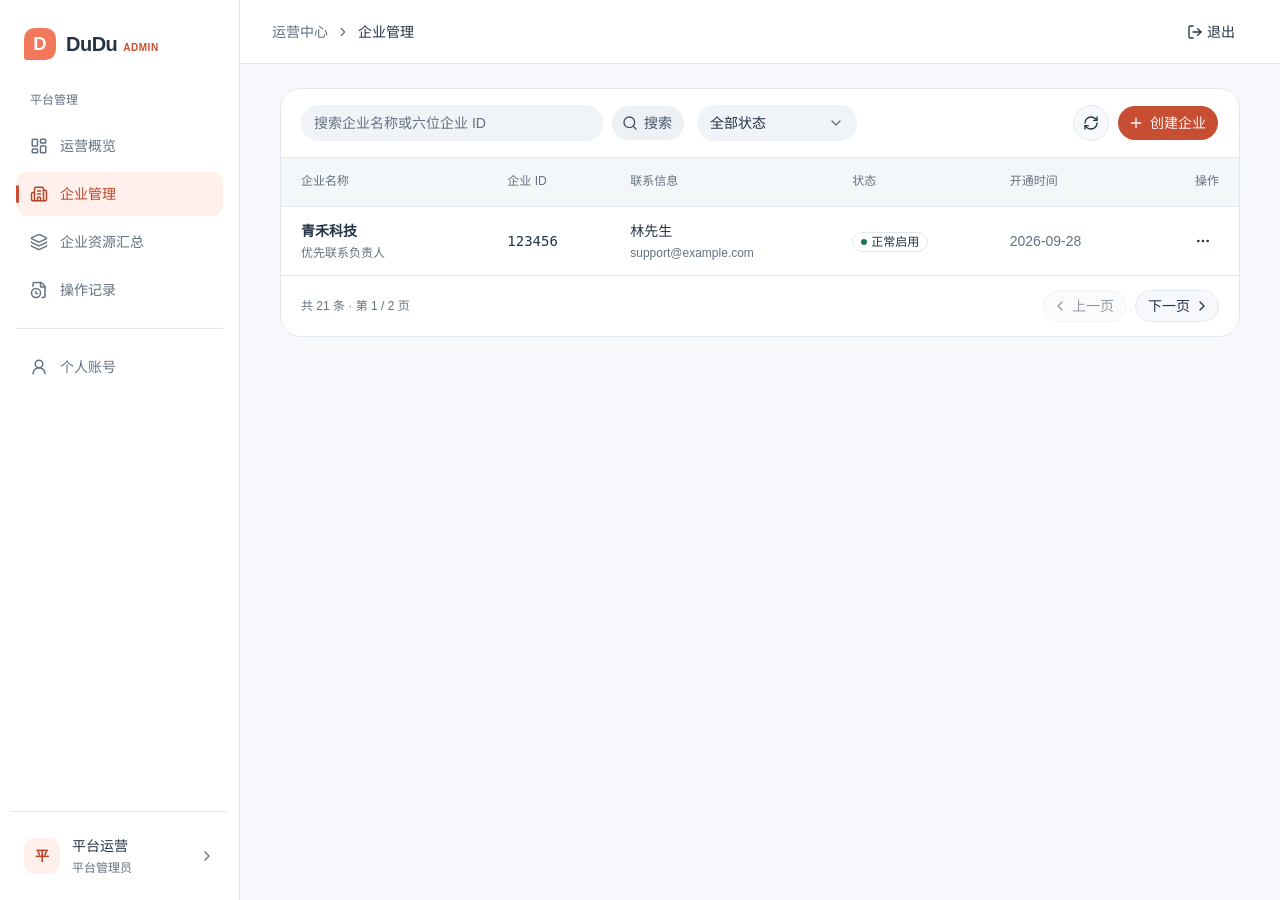
Test: 搜索和分页传递冻结的查询字段，迟到搜索不覆盖新结果
Click the button "下一页": click(1177, 306) [1135,290,1219,322]
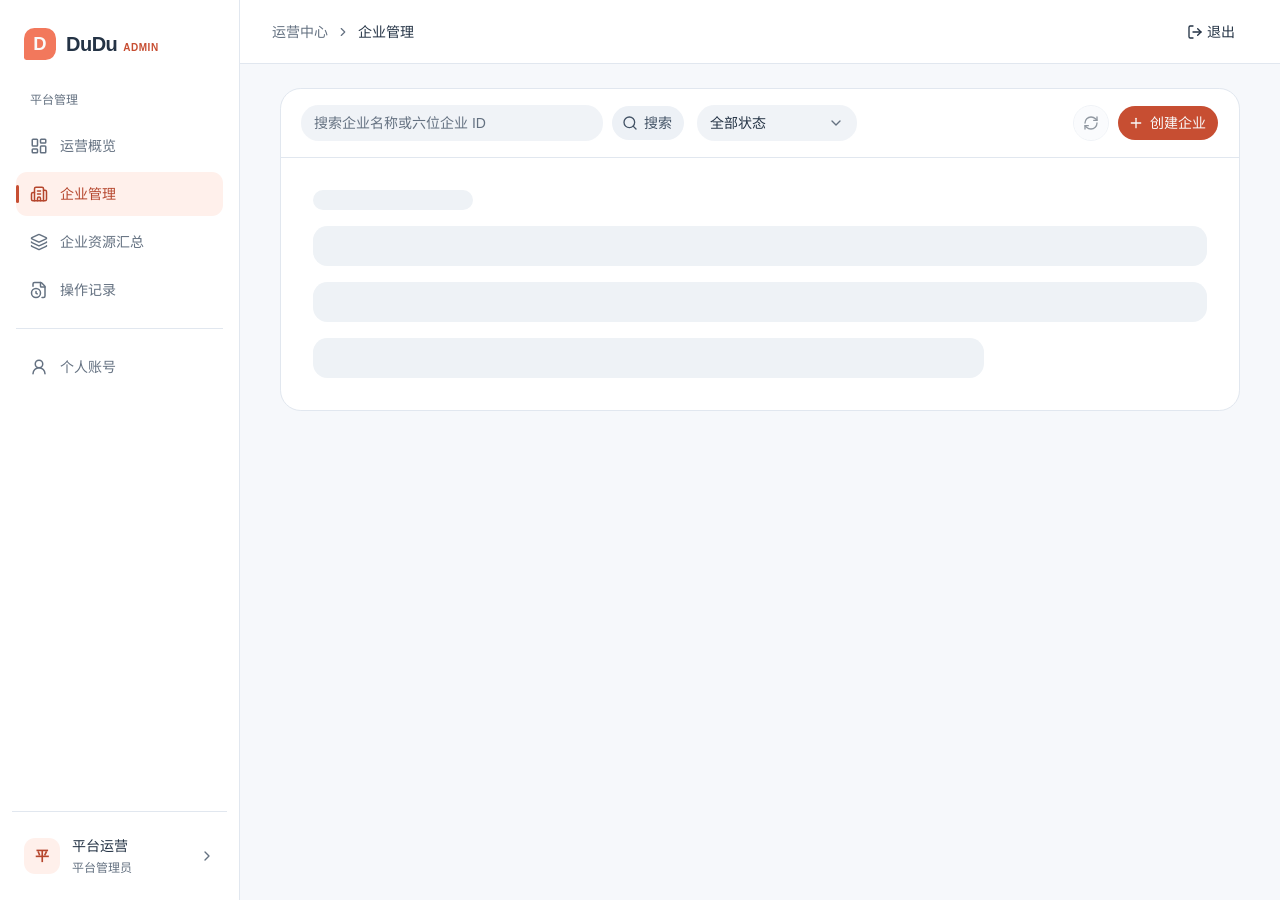
In the field labelled "搜索企业": (452, 123) [301,105,603,141], type "旧查询"
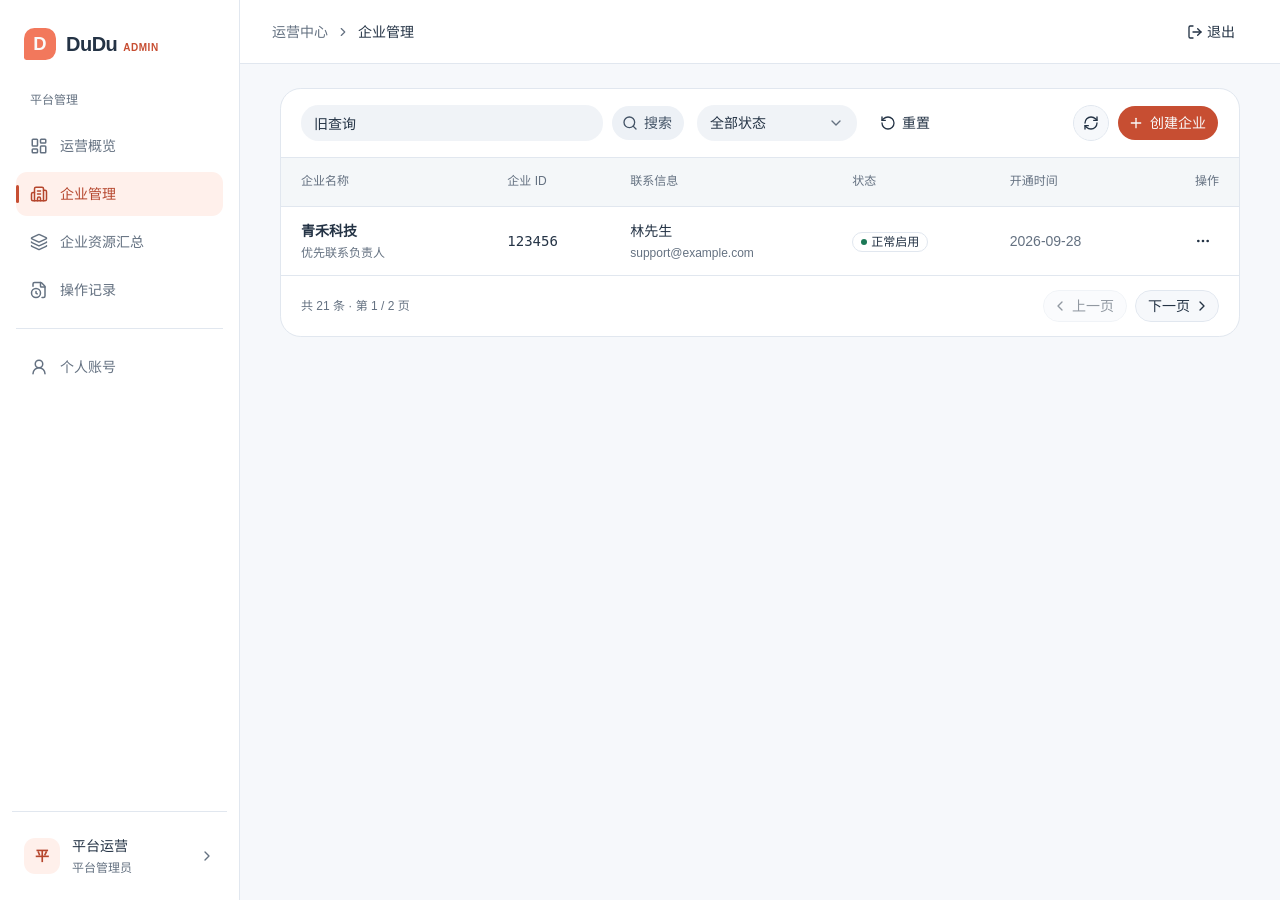
Click the button "搜索": click(648, 123) [611,105,685,141]
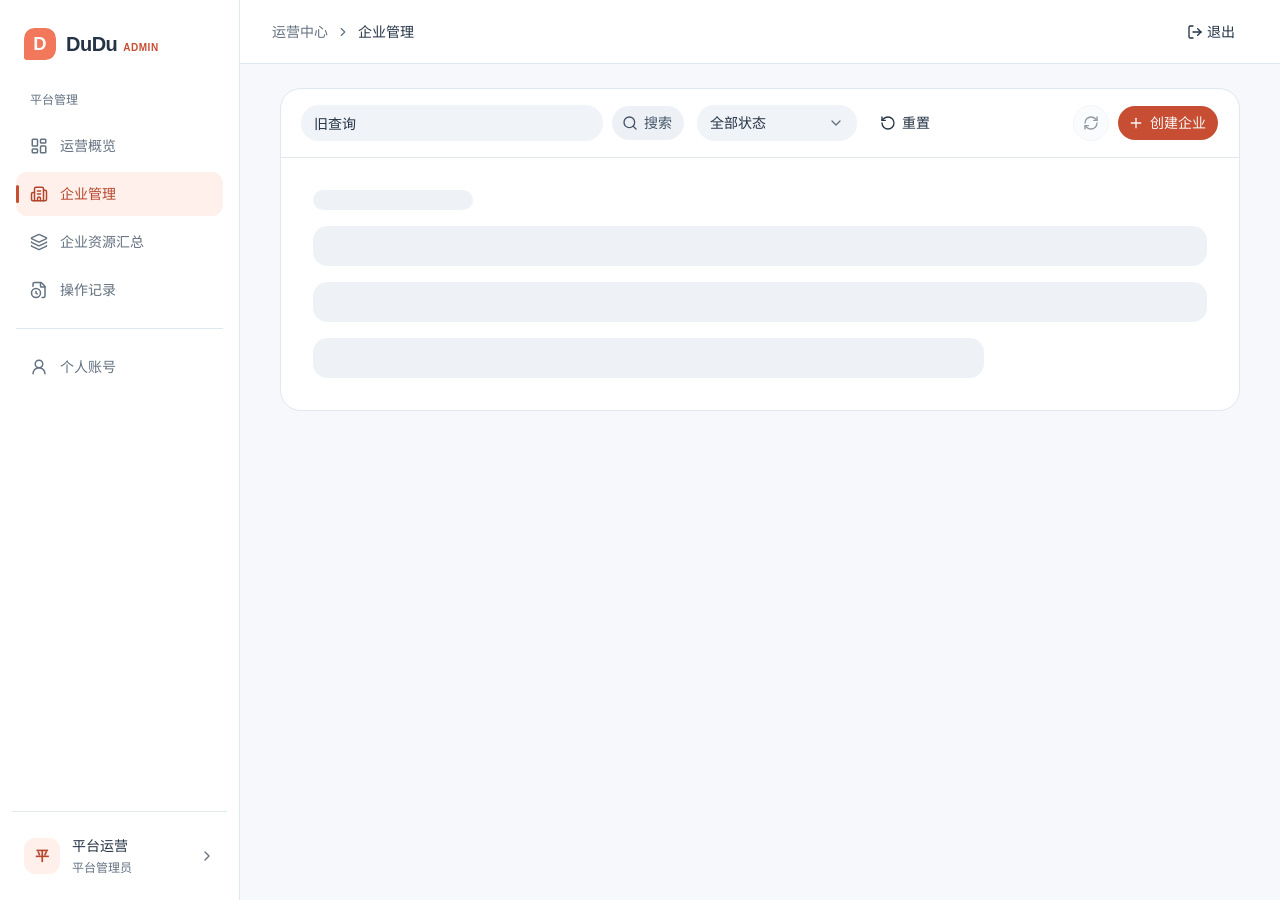
Replace the text in the field named "搜索企业" with "新查询": (452, 123) [301,105,603,141]
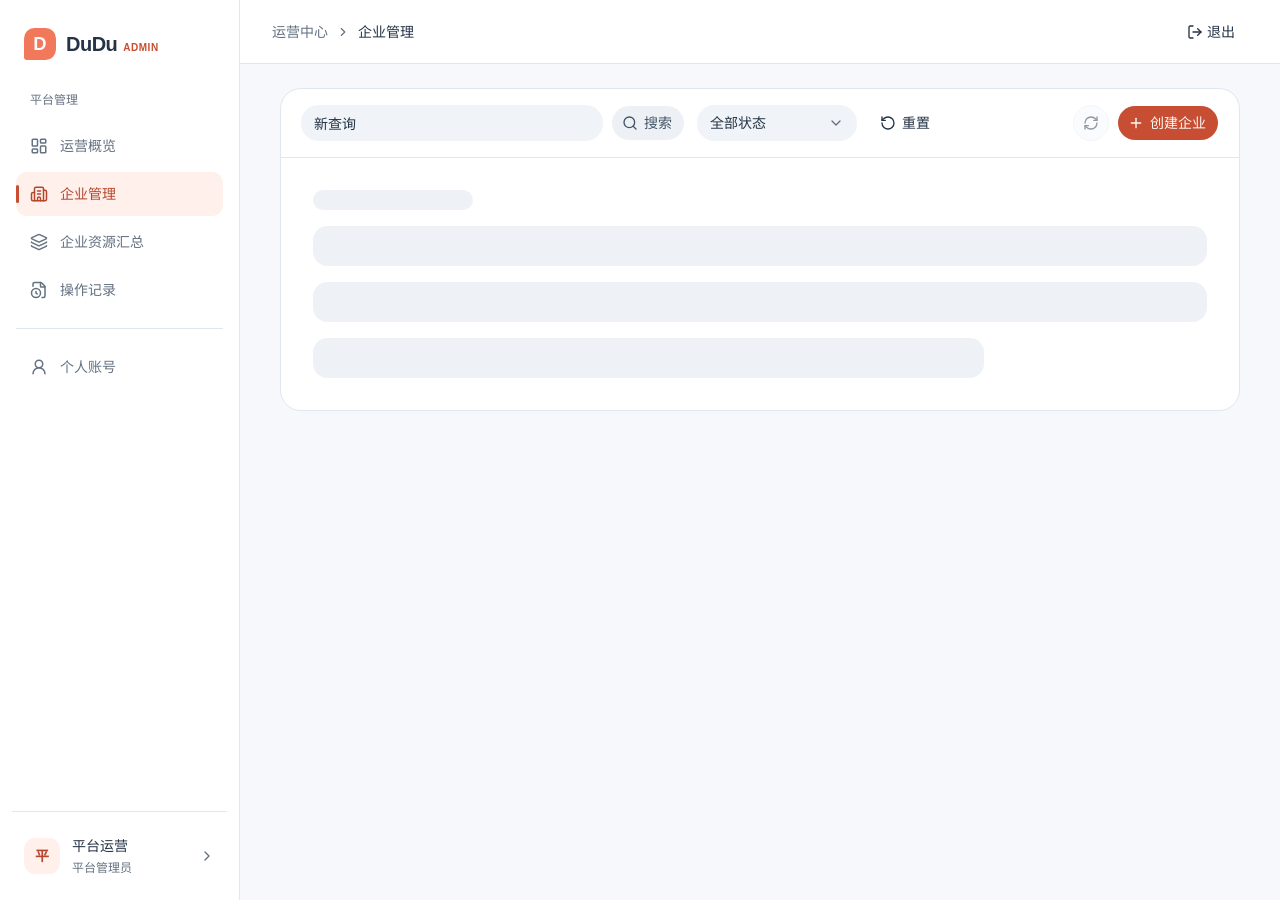
Click the button "搜索": click(648, 123) [611,105,685,141]
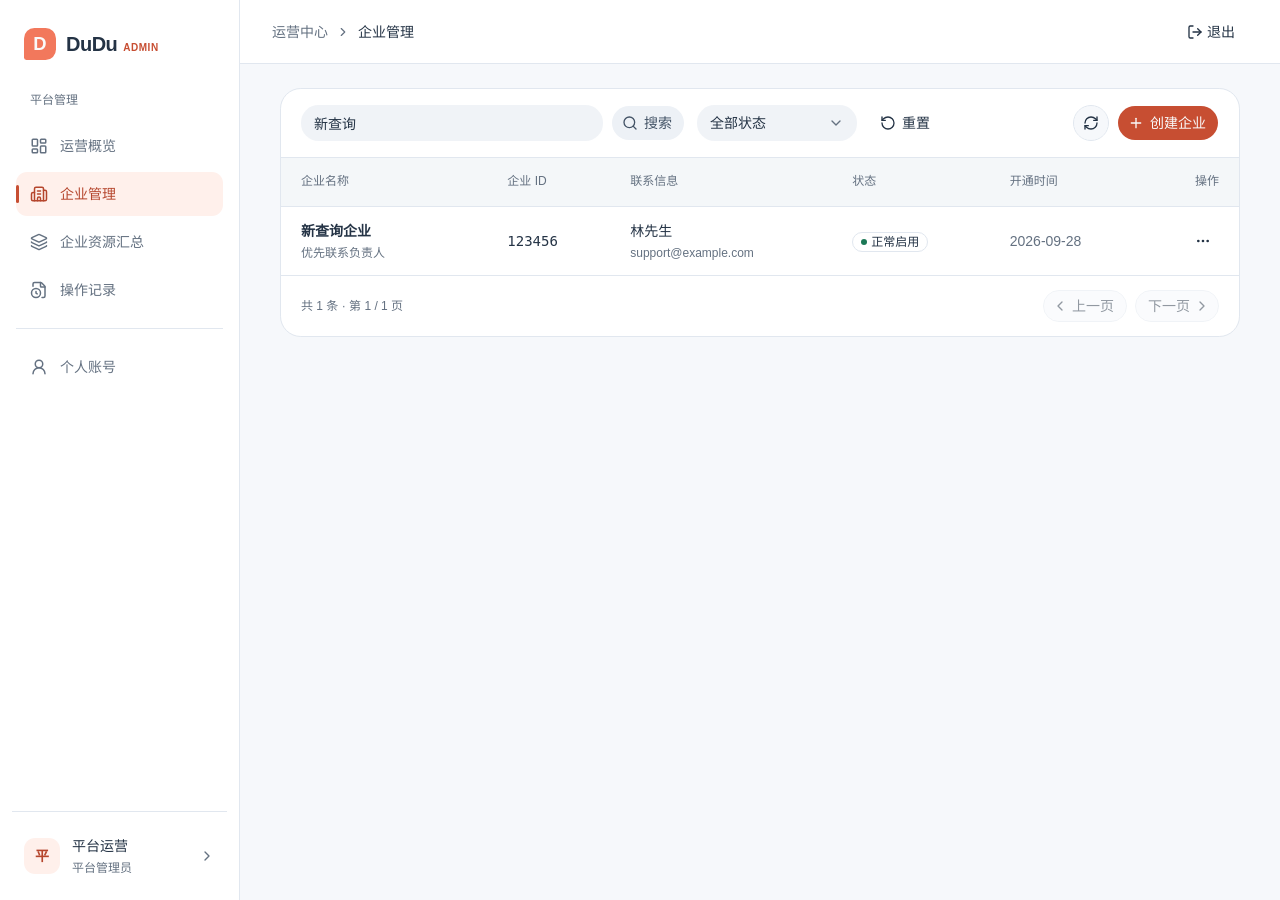
Expected: the button "新查询企业" is shown, [301,220,413,240]
